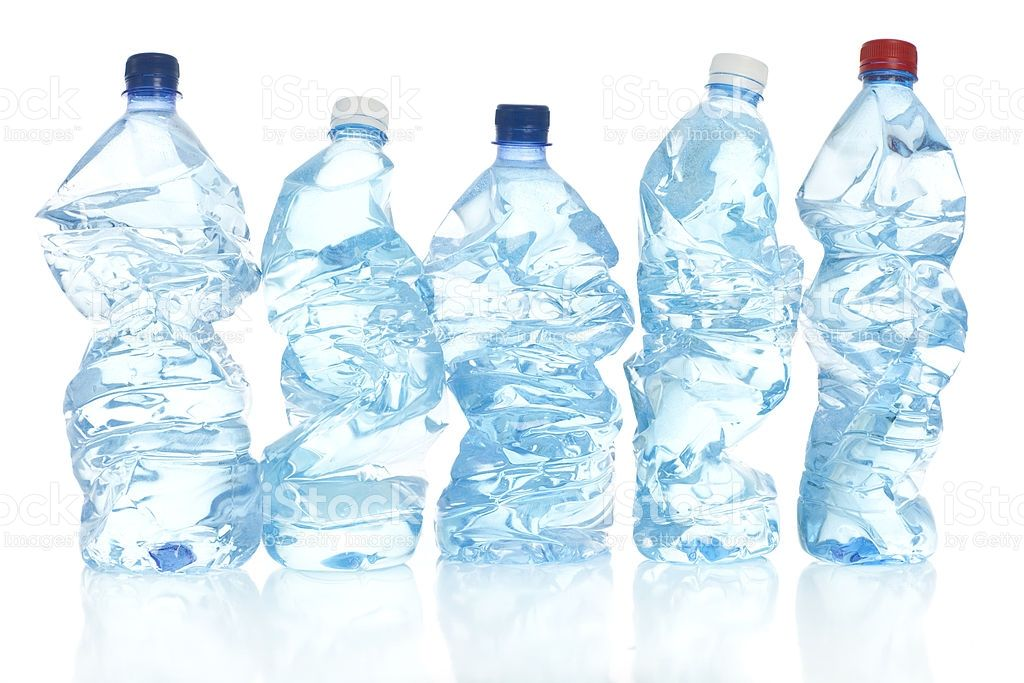plastic_bottle: (65, 39, 264, 581), (430, 102, 629, 577), (261, 91, 430, 580), (638, 51, 795, 569), (823, 33, 951, 576)
